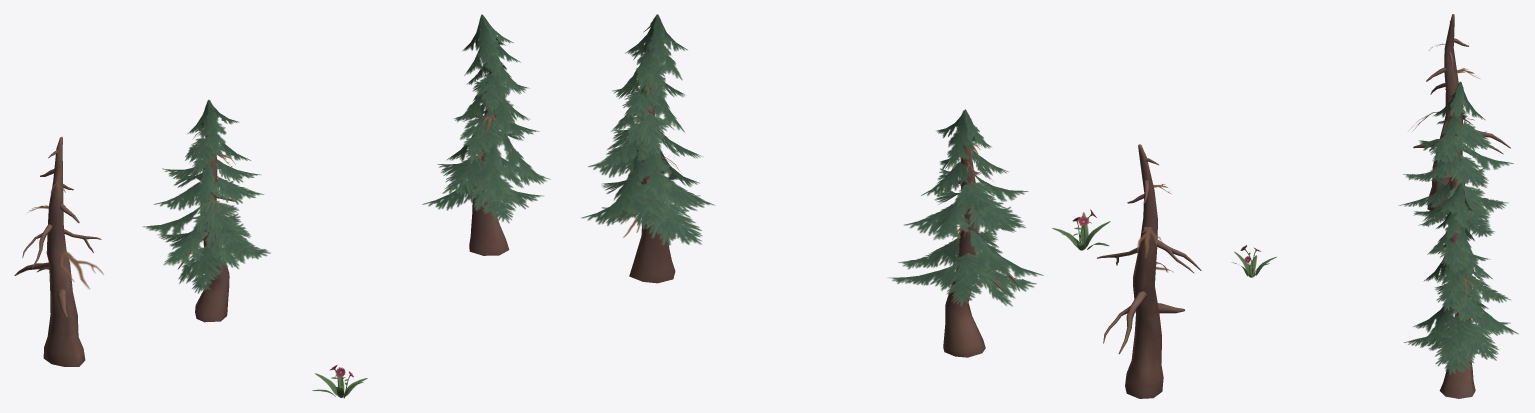
File: dressing-kit.glb
3 renders of one model, left to right at view 1: azimuth 30°, elevation 25°; view 2: azimuth 150°, elevation 25°; view 3: azimuth 270°, elevation 25°, orthographic. The views are drawn at different scales.
Visible parts, largest first — view 1: Pine_Leaves_01, Pine_Leaves_04, Pine_Trunk_No_Leaves_01, Pine_Trunk_04, Pine_Trunk_01, Red_Flower_01; view 2: Pine_Leaves_01, Pine_Leaves_04, Pine_Trunk_No_Leaves_01, Pine_Trunk_04, Pine_Trunk_01, Red_Flower_01; view 3: Pine_Leaves_01, Pine_Leaves_04, Pine_Trunk_No_Leaves_01, Pine_Trunk_01, Red_Flower_01.
Part boxes in pixels (x1,y1,x2,y2): Pine_Leaves_01: (422, 14, 550, 223); Pine_Leaves_04: (143, 99, 270, 293); Pine_Trunk_No_Leaves_01: (14, 137, 103, 366); Pine_Trunk_04: (176, 103, 235, 322); Pine_Trunk_01: (469, 56, 509, 255); Red_Flower_01: (312, 365, 367, 398); Pine_Leaves_01: (581, 14, 715, 245); Pine_Leaves_04: (888, 109, 1043, 306); Pine_Trunk_No_Leaves_01: (1097, 144, 1201, 398); Pine_Trunk_04: (943, 112, 1019, 357); Pine_Trunk_01: (629, 16, 675, 283); Red_Flower_01: (1052, 209, 1110, 250); Pine_Leaves_01: (1403, 183, 1518, 374); Pine_Leaves_04: (1399, 81, 1513, 237); Pine_Trunk_No_Leaves_01: (1411, 14, 1510, 210); Pine_Trunk_01: (1439, 223, 1475, 398); Red_Flower_01: (1231, 245, 1276, 277).
Bounding box in the file's own units: 9.49 × 4.04 × 5.12.
Materials: 3 (3 with a texture image).
